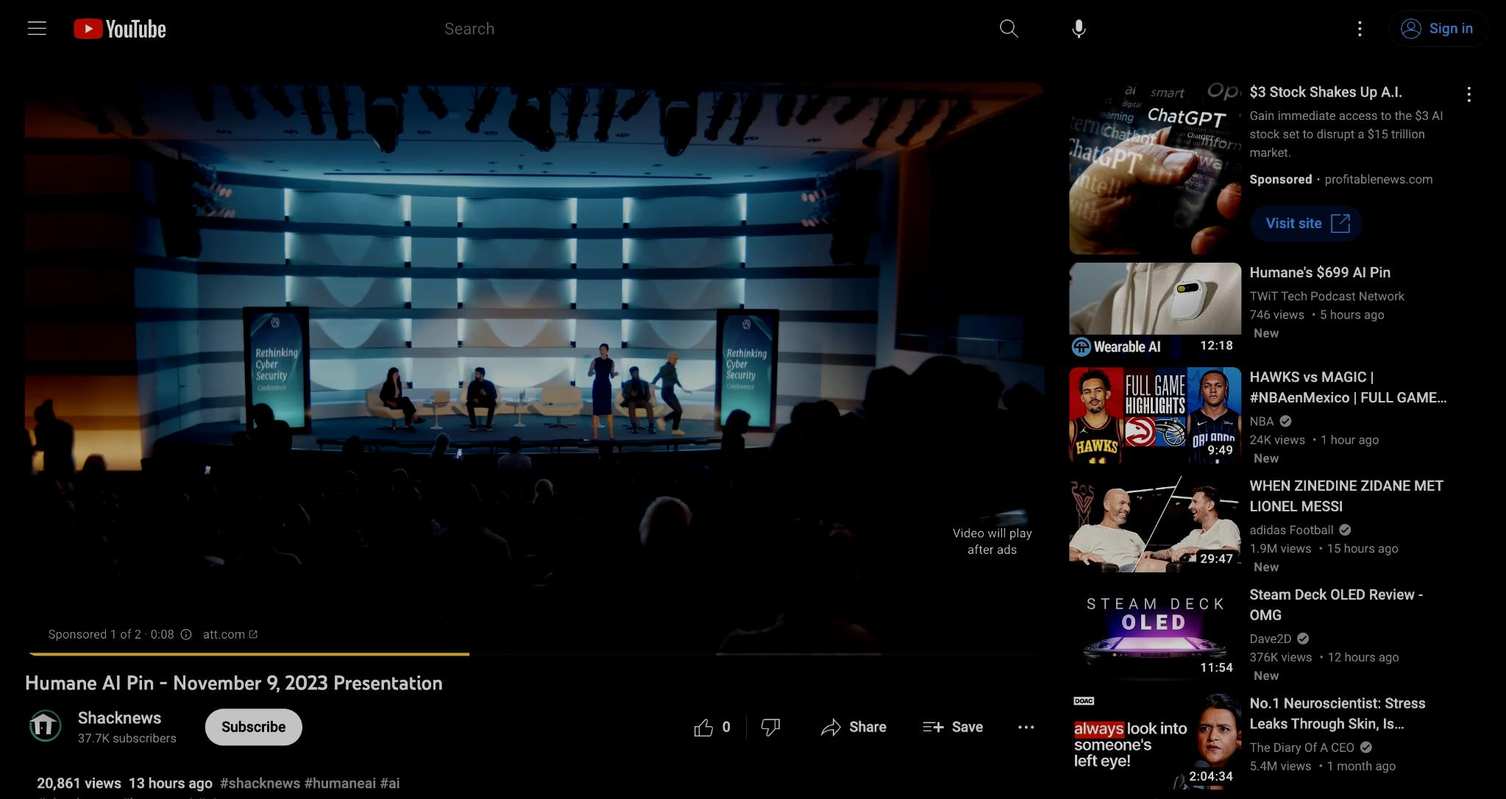webelement: (0, 56, 1505, 799), (24, 81, 1044, 655), (1083, 327, 1493, 799), (0, 0, 1505, 56), (1069, 81, 1241, 253), (1250, 366, 1456, 466), (1250, 475, 1456, 575), (1250, 584, 1456, 684), (1250, 693, 1456, 774), (1069, 262, 1241, 358), (1069, 366, 1241, 462), (1069, 475, 1241, 571), (1069, 584, 1241, 680), (1069, 693, 1241, 789), (1250, 262, 1456, 341), (445, 15, 972, 41), (1250, 367, 1456, 407), (1250, 475, 1456, 515), (1250, 584, 1456, 624), (1250, 693, 1456, 733), (56, 0, 179, 56), (940, 514, 1044, 567), (1249, 205, 1363, 241), (36, 603, 1032, 607), (1250, 262, 1456, 281), (36, 795, 977, 799), (1388, 10, 1489, 46), (205, 708, 302, 745), (809, 708, 903, 745), (911, 708, 999, 745), (47, 620, 147, 649), (977, 8, 1042, 48), (681, 708, 746, 745), (83, 606, 132, 655), (132, 606, 181, 655), (835, 606, 884, 655), (884, 606, 933, 655), (786, 606, 834, 655), (934, 606, 982, 655), (983, 606, 1031, 655), (36, 606, 83, 655), (747, 708, 800, 745), (77, 706, 161, 728), (127, 773, 219, 793), (36, 773, 127, 793), (77, 728, 175, 746), (1059, 8, 1100, 48), (24, 705, 64, 746), (1339, 8, 1379, 48), (219, 773, 299, 793), (1114, 301, 1195, 319), (1114, 405, 1195, 423), (1114, 514, 1195, 532), (1114, 623, 1195, 641), (1114, 732, 1195, 750), (303, 773, 375, 793), (1007, 708, 1044, 745), (1314, 540, 1398, 554), (1315, 649, 1399, 663), (1314, 758, 1395, 772), (202, 625, 257, 645), (221, 717, 285, 734), (1307, 307, 1383, 321), (1308, 432, 1379, 446), (1266, 214, 1322, 231), (187, 623, 250, 638), (1250, 649, 1312, 663), (1250, 540, 1311, 554), (1250, 758, 1311, 772), (80, 774, 127, 791), (1250, 432, 1305, 446), (1429, 19, 1473, 36), (1250, 173, 1312, 185), (1250, 307, 1303, 321), (150, 620, 174, 649), (849, 717, 886, 734), (1456, 81, 1481, 106), (1456, 262, 1481, 286), (1456, 366, 1481, 390), (1456, 475, 1481, 499), (1456, 584, 1481, 608), (1456, 693, 1481, 717), (24, 16, 48, 40), (1347, 16, 1371, 40), (952, 717, 983, 734), (1189, 770, 1233, 781), (1200, 338, 1232, 350), (1200, 552, 1232, 564), (379, 773, 398, 793), (179, 620, 192, 649), (187, 623, 212, 638), (225, 623, 250, 638), (1200, 661, 1232, 672), (1254, 326, 1279, 340), (1254, 451, 1279, 465), (1254, 668, 1279, 682), (1254, 560, 1279, 573), (36, 795, 116, 799), (120, 795, 192, 799), (1207, 444, 1232, 455), (1333, 522, 1352, 536), (1274, 414, 1292, 428), (1292, 631, 1310, 645), (1354, 740, 1372, 754), (1250, 798, 1456, 799), (1069, 798, 1241, 799), (213, 623, 224, 638), (196, 795, 216, 799), (299, 774, 302, 791), (375, 774, 378, 791), (1456, 798, 1481, 799)
